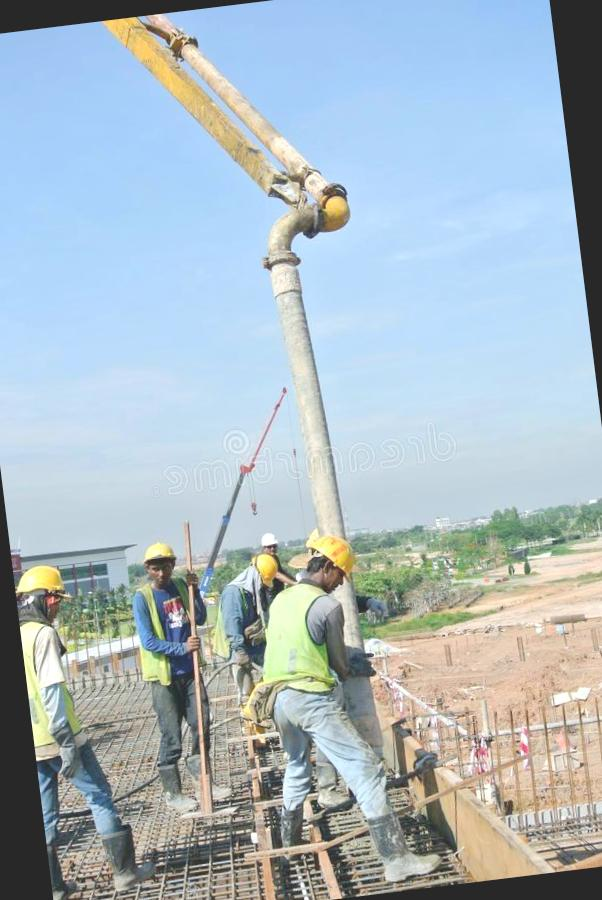helmet: (12, 563, 72, 596), (138, 541, 173, 564)
person: (238, 516, 430, 896), (12, 559, 136, 900), (124, 532, 235, 825)
